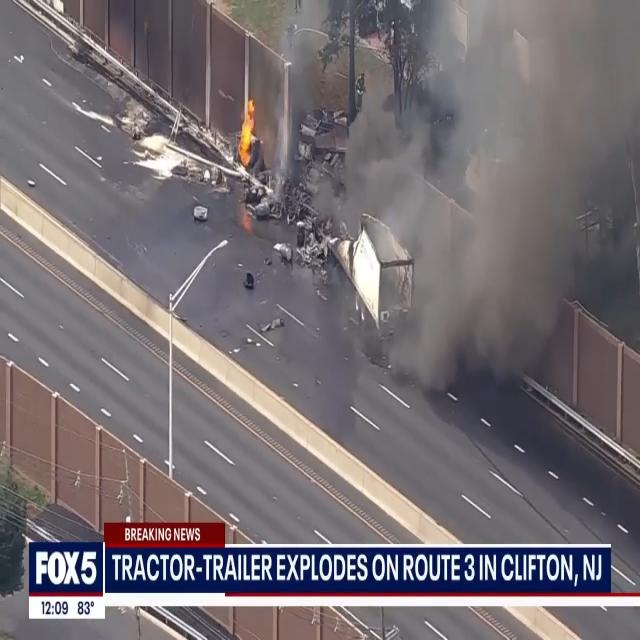fire: (233, 96, 257, 169)
